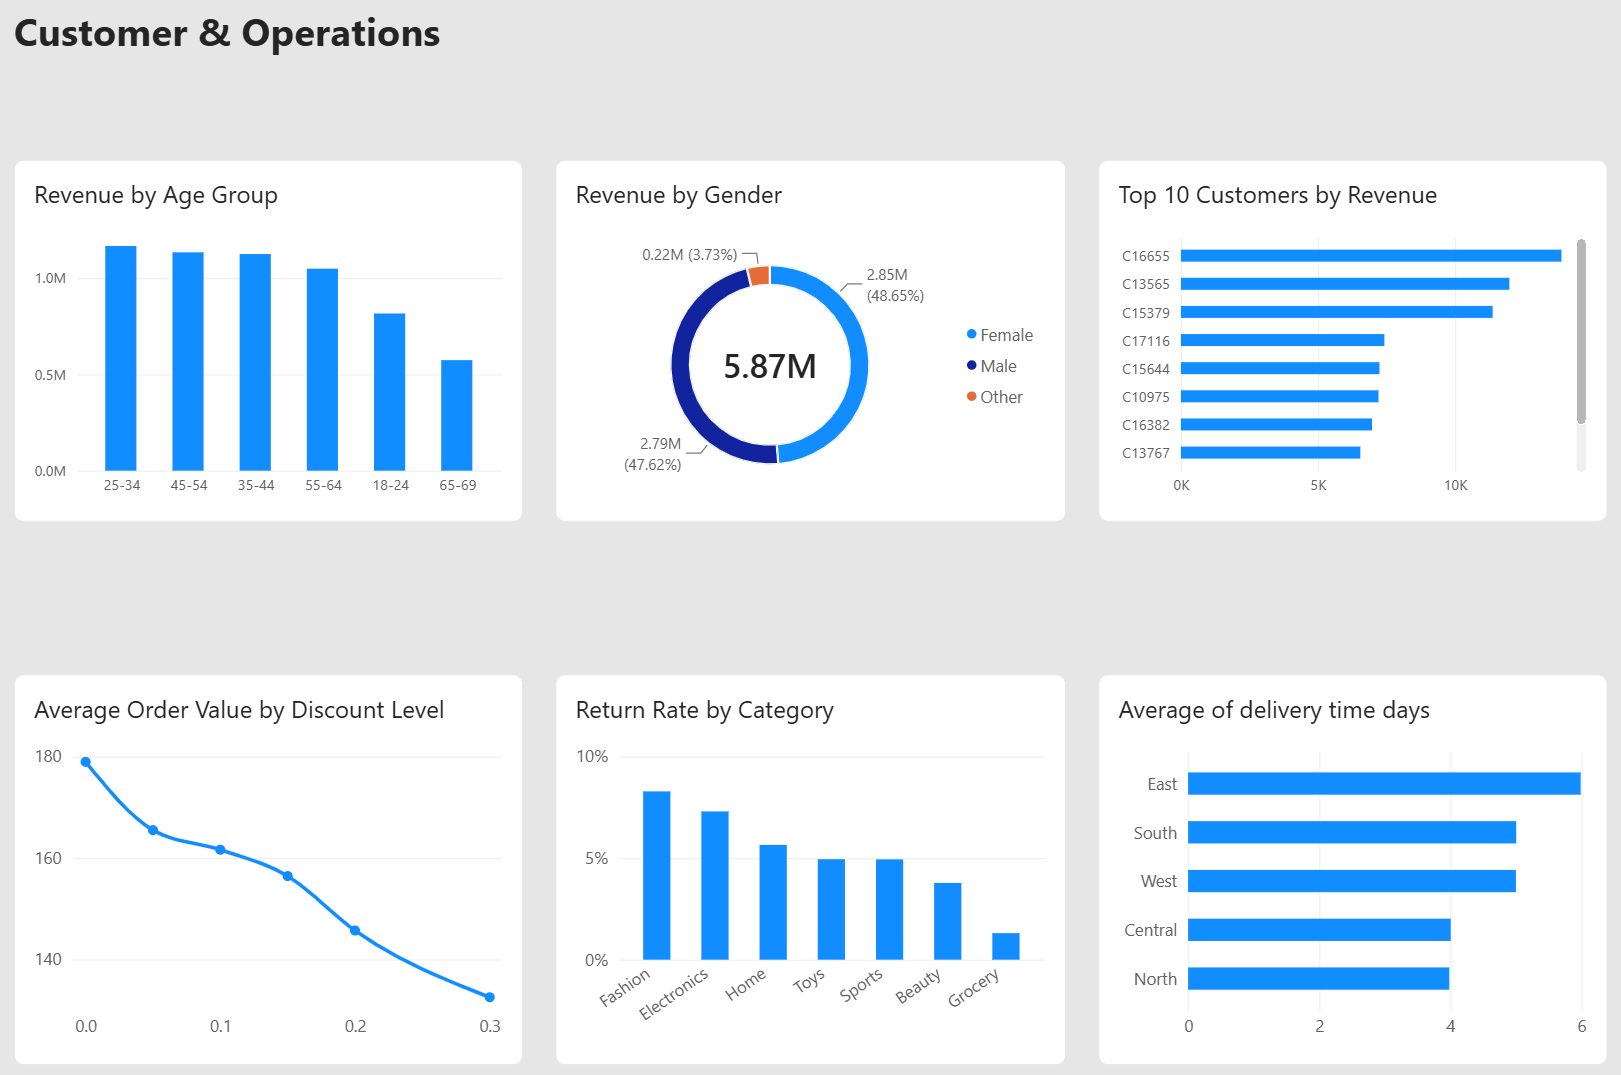

This screenshot's page, from the dashboard's own definition file:
{"tool":"powerbi","page":{"name":"Customer & Operations","canvas":[1920,1080],"ordinal":2},"visuals":[{"type":"clusteredColumnChart","title":"Revenue by Age Group","fields":{"Category":["ecommerce_sales.age_group"],"Y":["Sum(ecommerce_sales.total_amount)"]},"box":[62.6,192.9,423.8,301.2],"z":0},{"type":"clusteredBarChart","title":"Top 10 Customers by Revenue","fields":{"Category":["ecommerce_sales.customer_id"],"Y":["Sum(ecommerce_sales.total_amount)"]},"box":[1433.9,196.4,423.8,301.2],"z":1000},{"type":"clusteredColumnChart","title":"Return Rate by Category","fields":{"Category":["ecommerce_sales.category"],"Y":["ecommerce_sales.return_rate"]},"box":[745.6,624,425.8,325],"z":2000},{"type":"donutChart","title":"Revenue by Gender","fields":{"Category":["ecommerce_sales.customer_gender"],"Y":["Sum(ecommerce_sales.total_amount)"]},"box":[745.6,194.7,425.8,300.7],"z":3000},{"type":"clusteredBarChart","title":"Average of delivery time days","fields":{"Category":["ecommerce_sales.region"],"Y":["Avg(ecommerce_sales.delivery_time_days)"]},"box":[1433.9,624,424.1,325],"z":4000},{"type":"lineChart","title":"Average Order Value by Discount Level","fields":{"Category":["ecommerce_sales.discount"],"Y":["Avg(ecommerce_sales.total_amount)"]},"box":[62.6,625.7,423.8,325],"z":5000},{"type":"textbox","title":"Customer & Operations","box":[62.6,31.3,517.5,56.2],"z":6000}]}

Visuals, with their boxes on the page's 1920x1080 design canvas (x1, y1, x2, y2). These are canvas units, not pixel positions in the 1621x1075 screenshot, which may show the page scaled, cropped or inside an application window:
"Revenue by Age Group" clusteredColumnChart: box=[63, 193, 486, 494]
"Top 10 Customers by Revenue" clusteredBarChart: box=[1434, 196, 1858, 498]
"Return Rate by Category" clusteredColumnChart: box=[746, 624, 1171, 949]
"Revenue by Gender" donutChart: box=[746, 195, 1171, 495]
"Average of delivery time days" clusteredBarChart: box=[1434, 624, 1858, 949]
"Average Order Value by Discount Level" lineChart: box=[63, 626, 486, 951]
"Customer & Operations" textbox: box=[63, 31, 580, 88]
